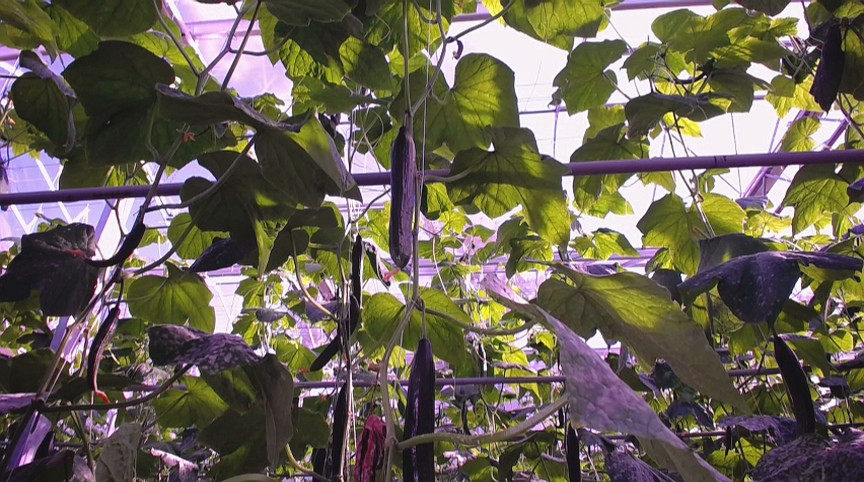cucumber: (405, 340, 435, 482), (773, 336, 816, 432), (390, 124, 418, 269), (88, 308, 121, 390), (334, 384, 351, 479), (354, 234, 365, 309), (568, 425, 581, 482)
